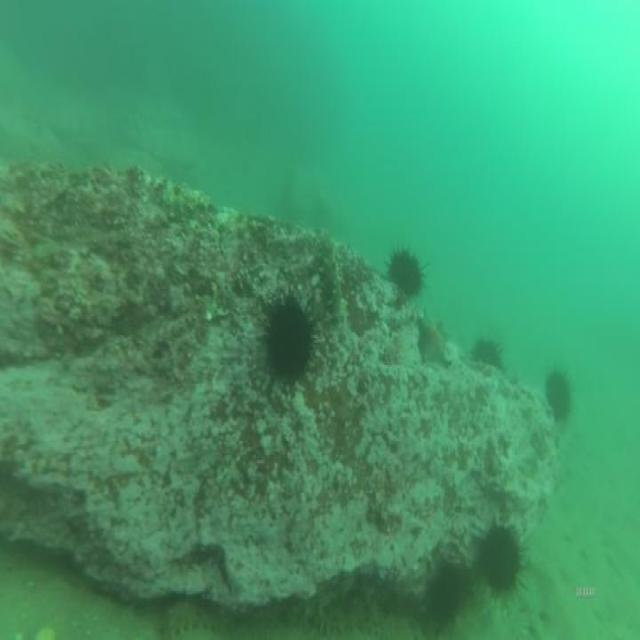echinus: (248, 283, 323, 403), (468, 512, 534, 613), (415, 540, 472, 636), (380, 240, 430, 304), (541, 362, 575, 427), (468, 327, 506, 379)
holothurian: (276, 572, 358, 632), (159, 591, 233, 638), (316, 232, 349, 329)
starfish: (415, 313, 452, 368)
